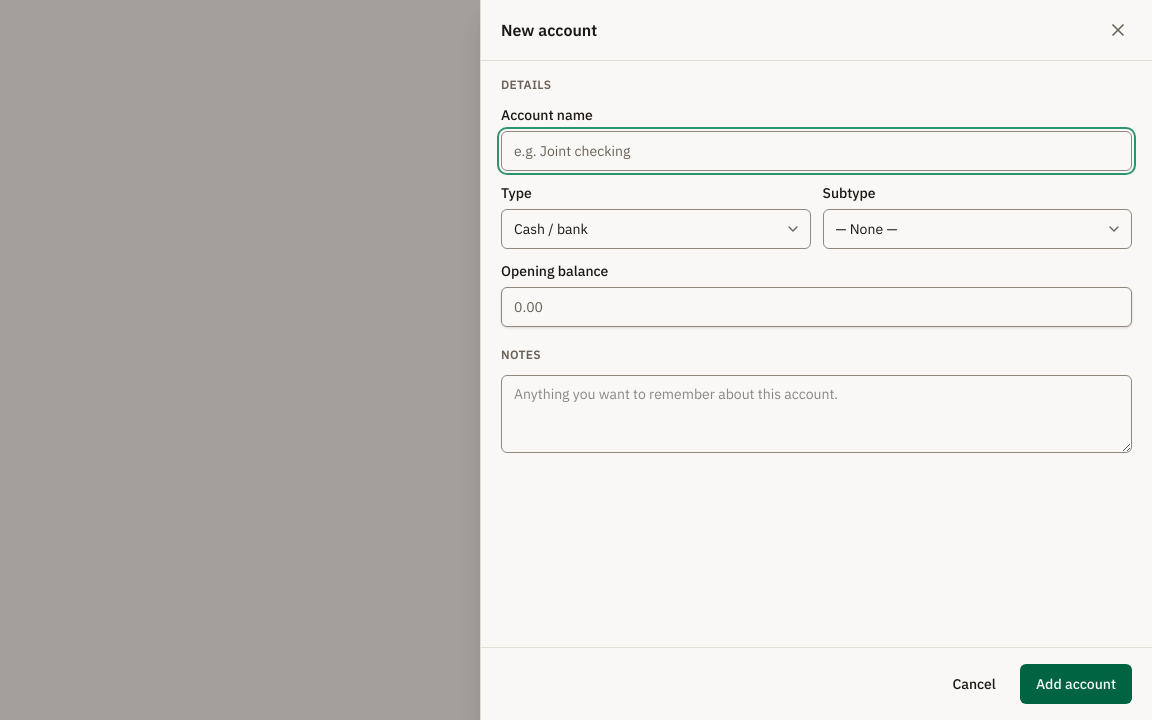
Scenario: a loan account offers Original principal, not Credit limit
This screenshot has width=1152, height=720.
Select "Loan / mortgage" in the dropdown labelled "Type" at [656, 229], box [501,209,810,249]
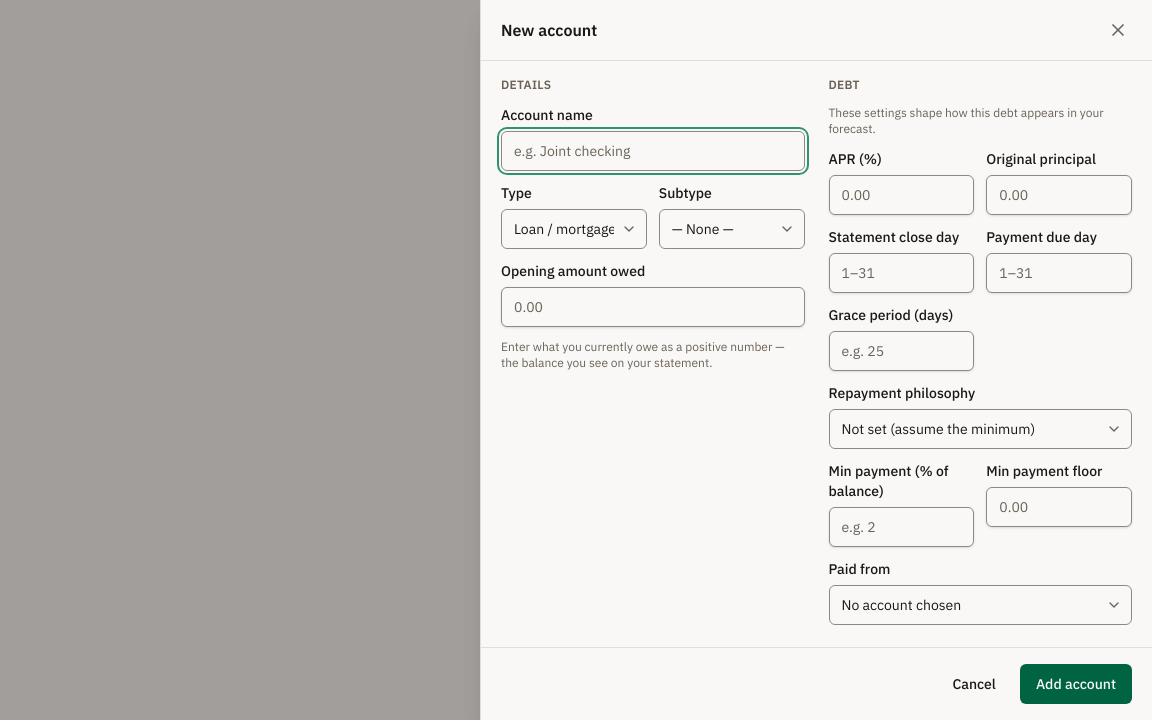
Now the text "Original principal" is shown, box [986,150,1096,168]
